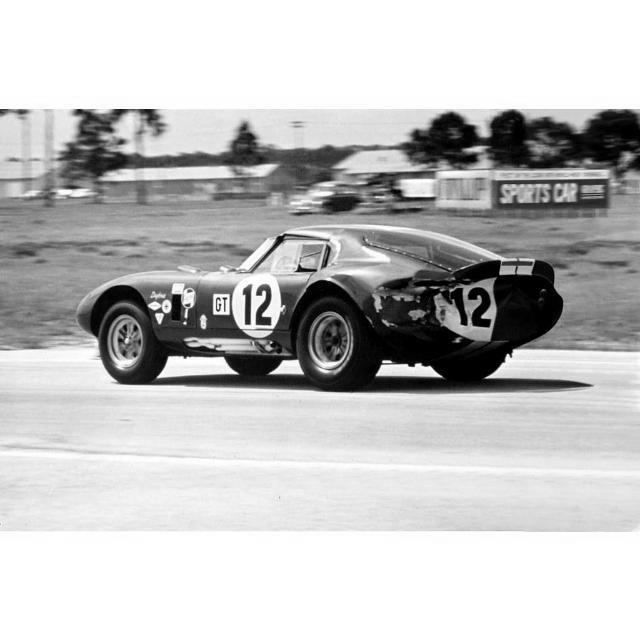boot-dent: (389, 264, 540, 364)
